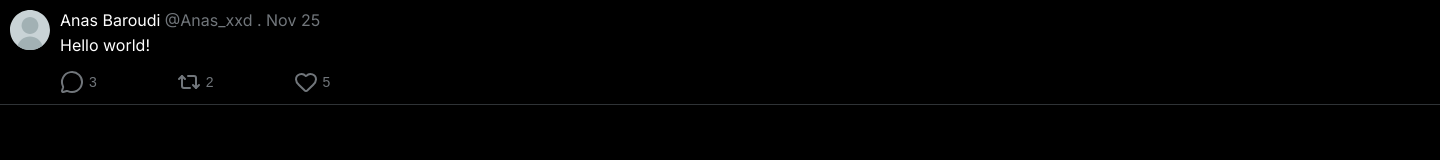
Test: Post › should decrease the like count when unliked
The width and height of the screenshot is (1440, 160).
Click the button named "Like" at (312, 82), box [294,70,330,94]
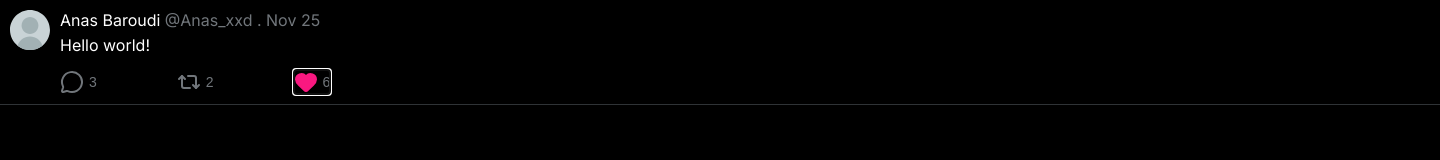
Click the button named "Like" at (312, 82), box [294,70,330,94]
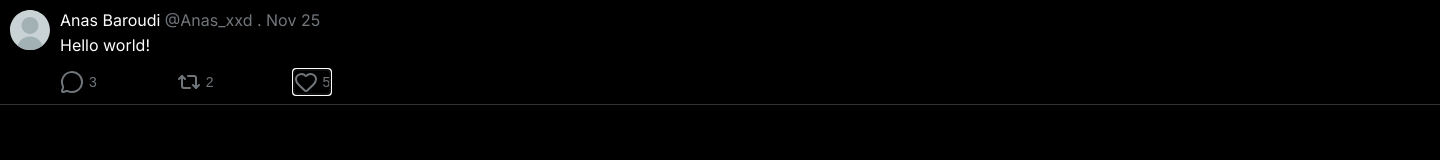
Expected: the button named "Like" reads "5", [294,70,330,94]
